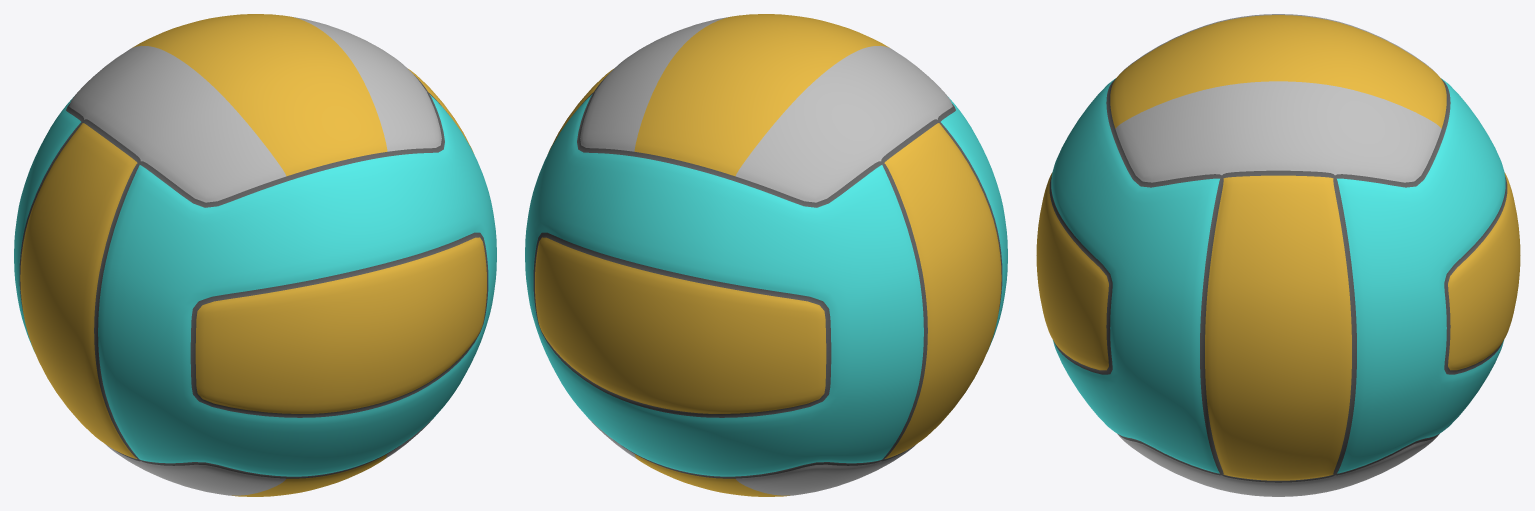
3 views of the same model, side by side, from view 1: azimuth 30°, elevation 25°; view 2: azimuth 150°, elevation 25°; view 3: azimuth 270°, elevation 25° (orthographic).
Visible parts, largest first — view 1: 排球; view 2: 排球; view 3: 排球.
Boxes of the visible parts, left/top/right/bottom form: 排球: left=14, top=14, right=496, bottom=496; 排球: left=525, top=14, right=1007, bottom=496; 排球: left=1036, top=14, right=1520, bottom=496.
Bounding box in the file's own units: 1.9 × 1.9 × 1.9.
